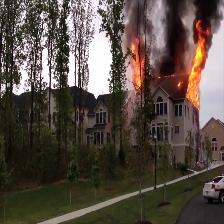fire: (190, 49, 207, 97), (132, 44, 151, 78)
smoke: (159, 8, 188, 72), (194, 4, 212, 42)
